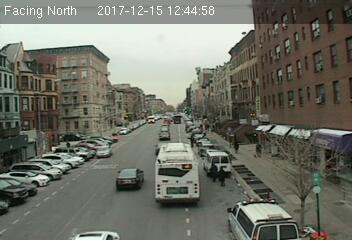bus: (154, 143, 201, 207)
car: (115, 168, 145, 191), (95, 146, 112, 157), (157, 131, 171, 140)
pedestrian: (208, 160, 219, 183), (218, 166, 227, 190), (232, 140, 241, 156)
police: (228, 197, 304, 240)
truck: (203, 151, 232, 176)
